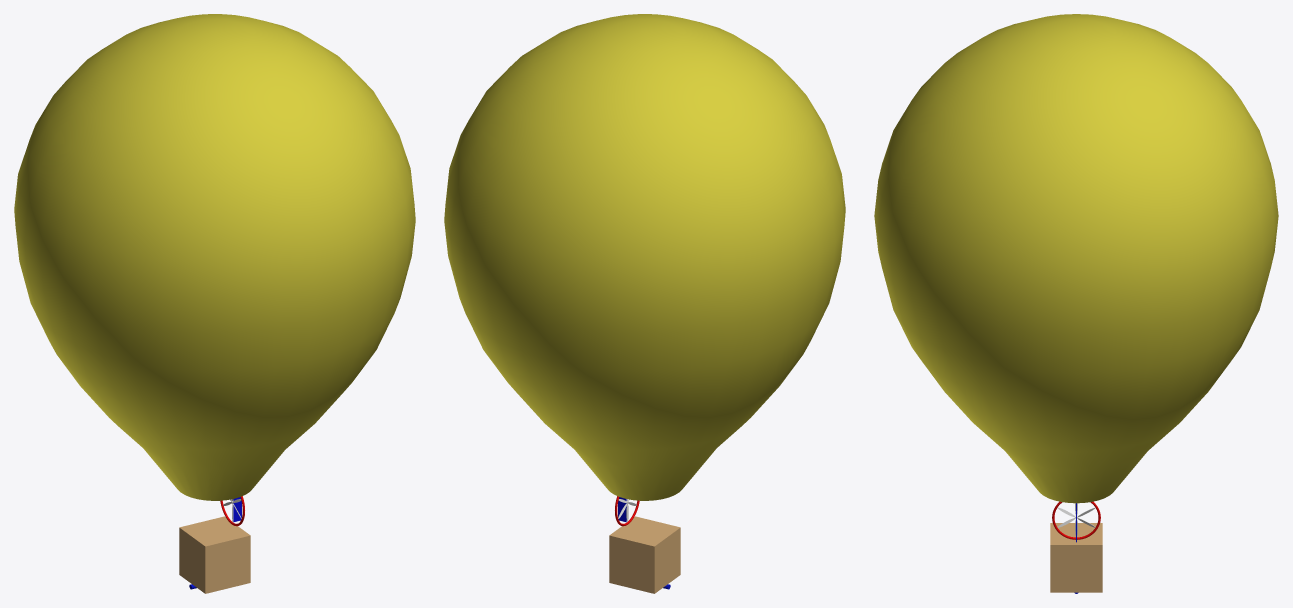
File: balloon.dae
3 views of the same model, side by side, from view 1: azimuth 30°, elevation 25°; view 2: azimuth 150°, elevation 25°; view 3: azimuth 270°, elevation 25° (orthographic).
Visible parts, largest first — view 1: Huelle, Cube; view 2: Huelle, Cube; view 3: Huelle, Cube.
Boxes of the visible parts, box(x1,y1,x2,y2) form: Huelle: box(14, 14, 415, 500); Cube: box(179, 516, 250, 593); Huelle: box(444, 14, 845, 500); Cube: box(609, 516, 680, 593); Huelle: box(874, 14, 1278, 503); Cube: box(1050, 523, 1102, 592).
Size of the model in its own units: 2 by 2 by 3.02.
